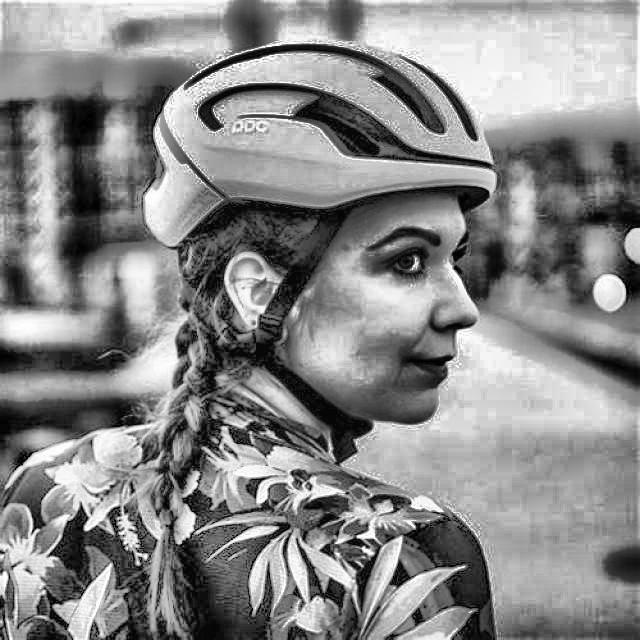Helmet: (138, 36, 502, 443)
